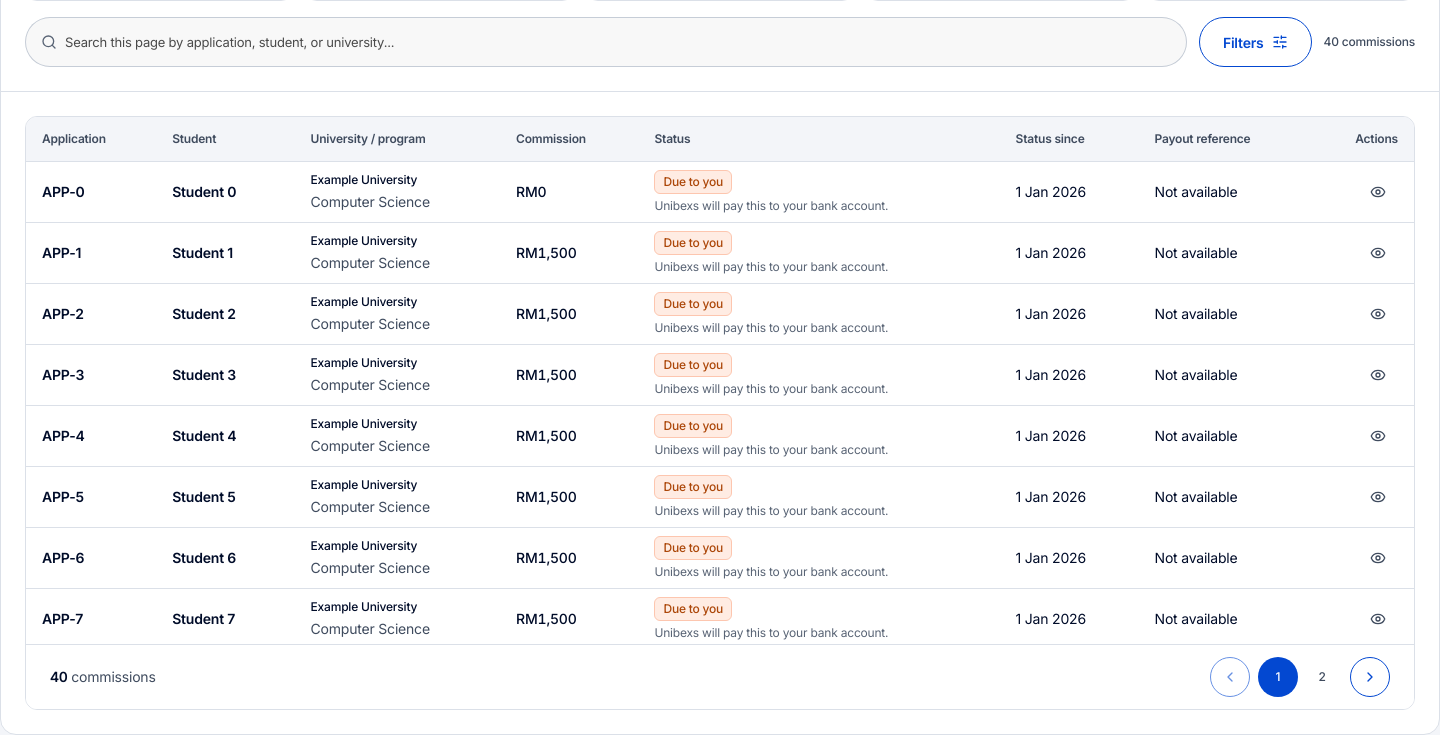
Test: stops pagination at the last full page
(page scrolled)
Step 1. Click the button named "Next page" → (1370, 676), box [1350,656,1390,696]
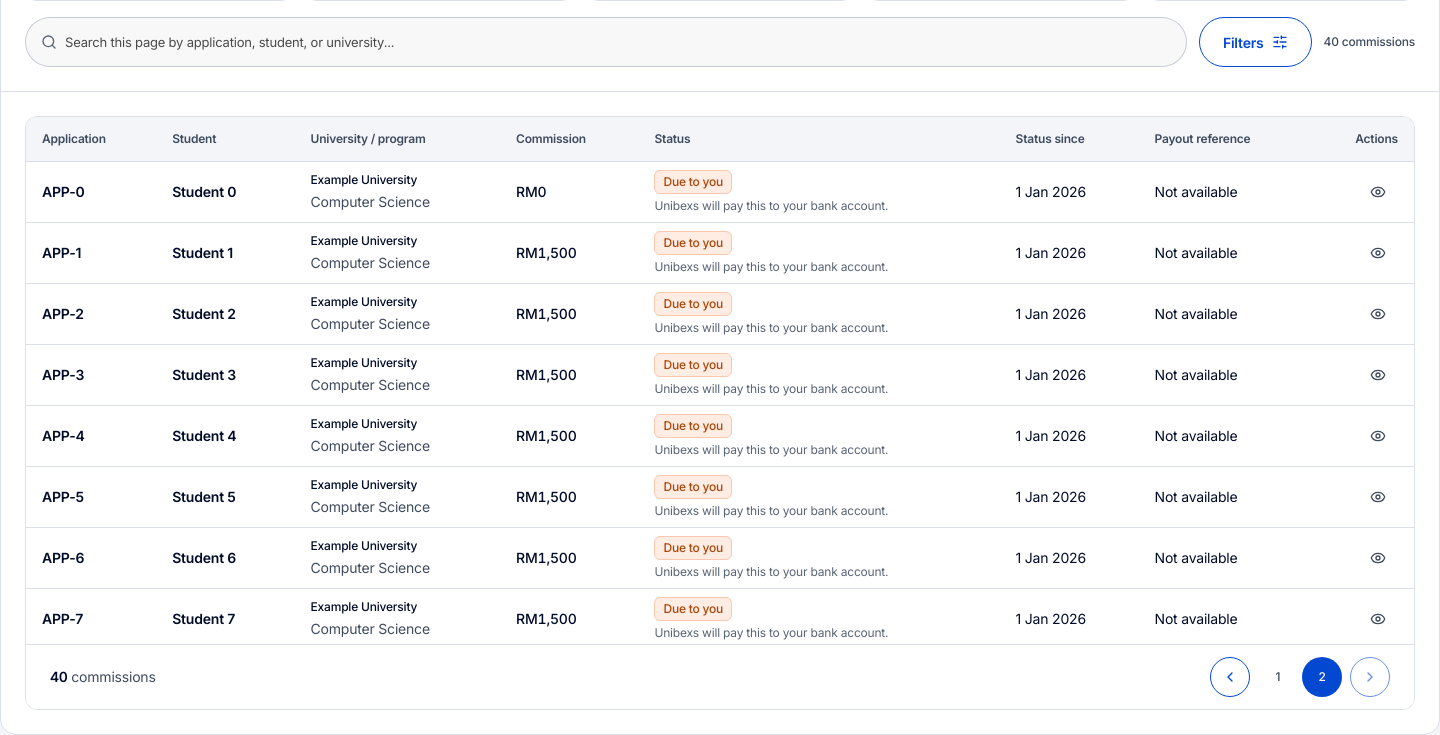
Expected: the button named "Next page" is disabled, [1350,656,1390,696]
